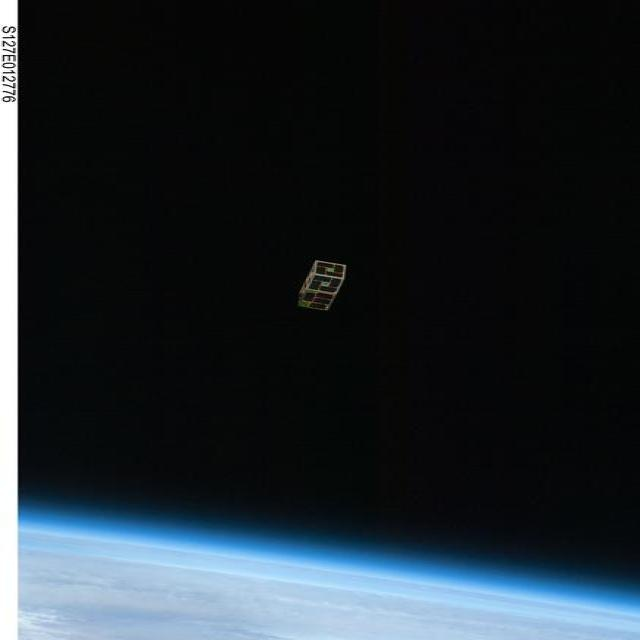medium_debris: (296, 258, 353, 311)
